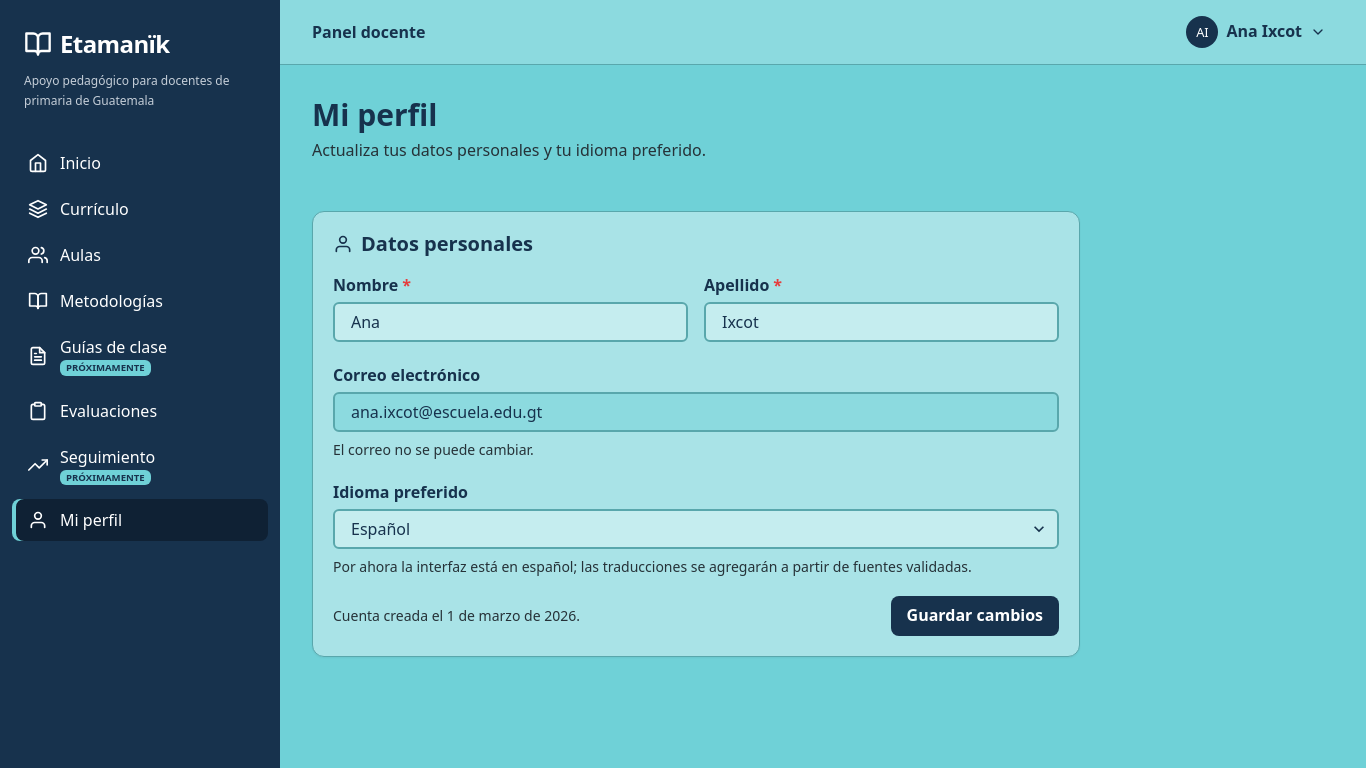
Test: Perfil del docente › valida el nombre antes de enviar
The width and height of the screenshot is (1366, 768).
Clear the field labelled "Nombre*": (510, 322) [333,302,688,342]
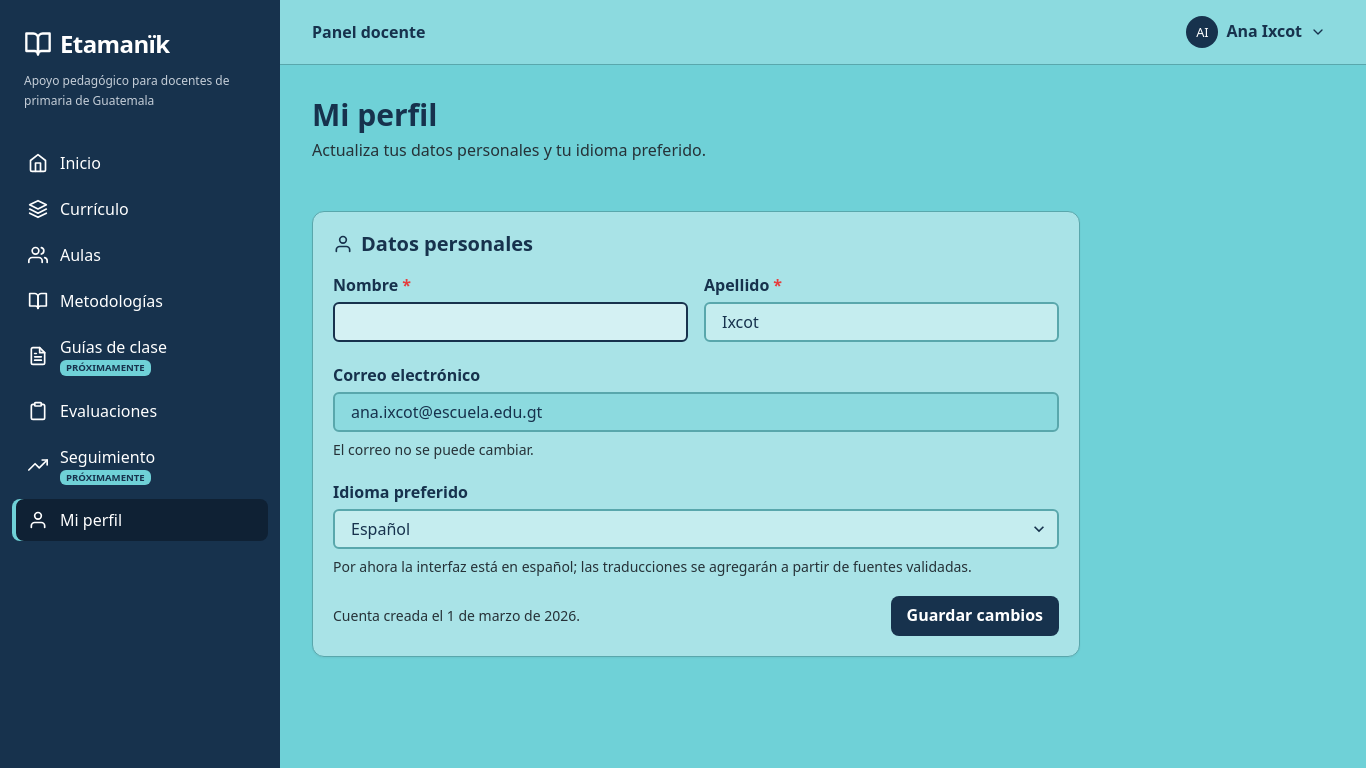
Click the button "Guardar cambios": (975, 616) [891,596,1059,636]
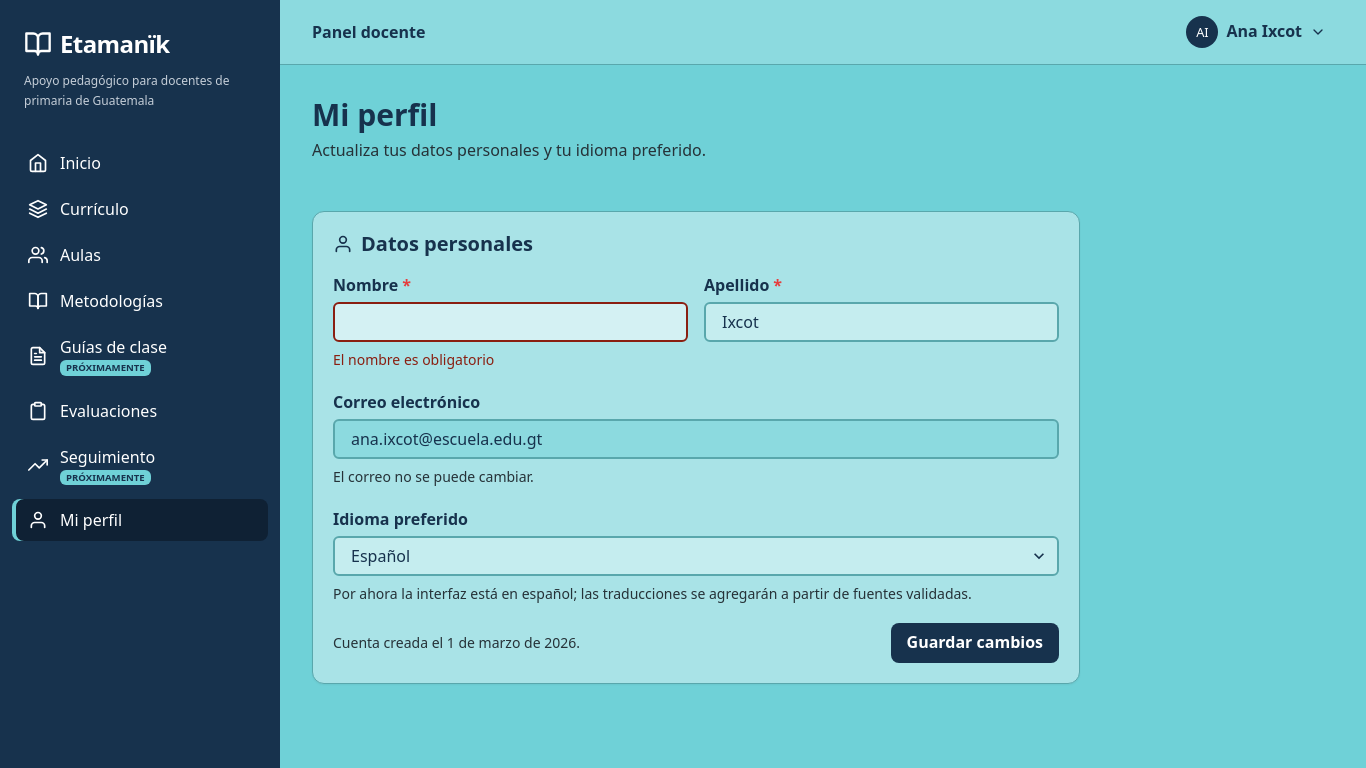
Expected: the text "El nombre es obligatorio" is shown, [333,350,494,369]
